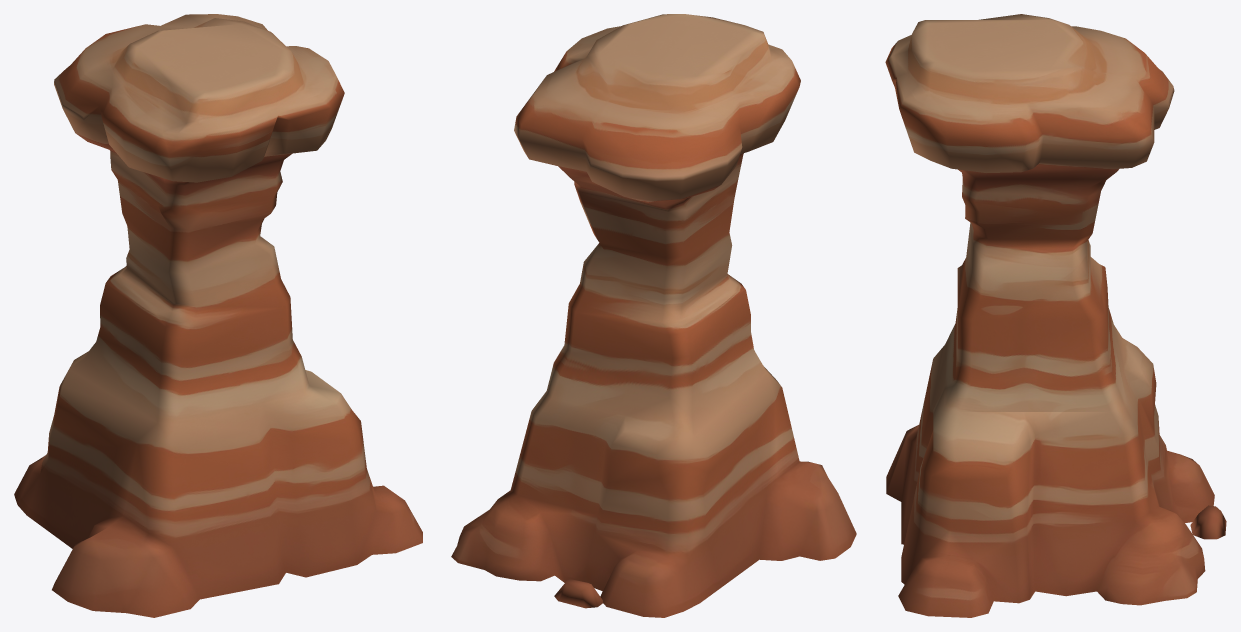
The model's file is map_spire_tripo.glb.
The picture shows the model from 3 angles, left to right: view 1: azimuth 30°, elevation 25°; view 2: azimuth 150°, elevation 25°; view 3: azimuth 270°, elevation 25°; orthographic projection. The views are drawn at different scales.
Parts seen in each view (by area): view 1: tripo_node_59c49e45-07b1-485d-8fb1-80c860c84e84; view 2: tripo_node_59c49e45-07b1-485d-8fb1-80c860c84e84; view 3: tripo_node_59c49e45-07b1-485d-8fb1-80c860c84e84.
Boxes of the visible parts, x1,y1,x2,y2 form: tripo_node_59c49e45-07b1-485d-8fb1-80c860c84e84: (14,14,422,617); tripo_node_59c49e45-07b1-485d-8fb1-80c860c84e84: (451,14,856,617); tripo_node_59c49e45-07b1-485d-8fb1-80c860c84e84: (885,14,1226,617).
Bounding box in the file's own units: 0.7168 × 0.998 × 0.627.
Materials: 1 (1 with a texture image).
